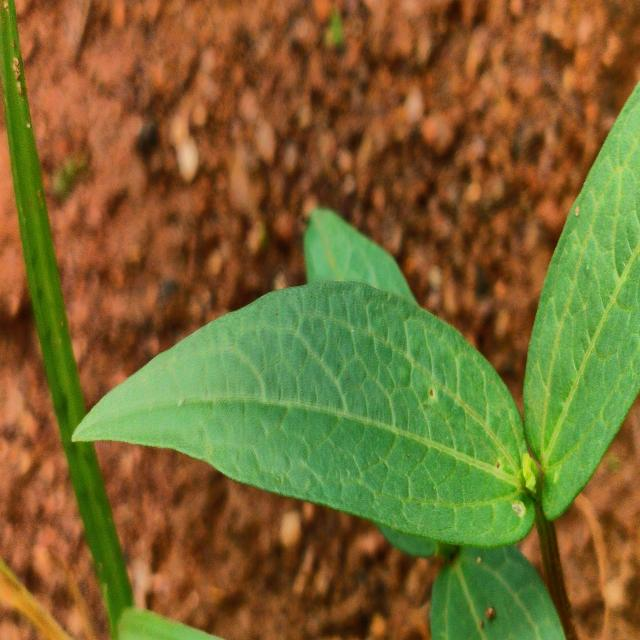Black gram_healthy: (72, 278, 536, 550)
